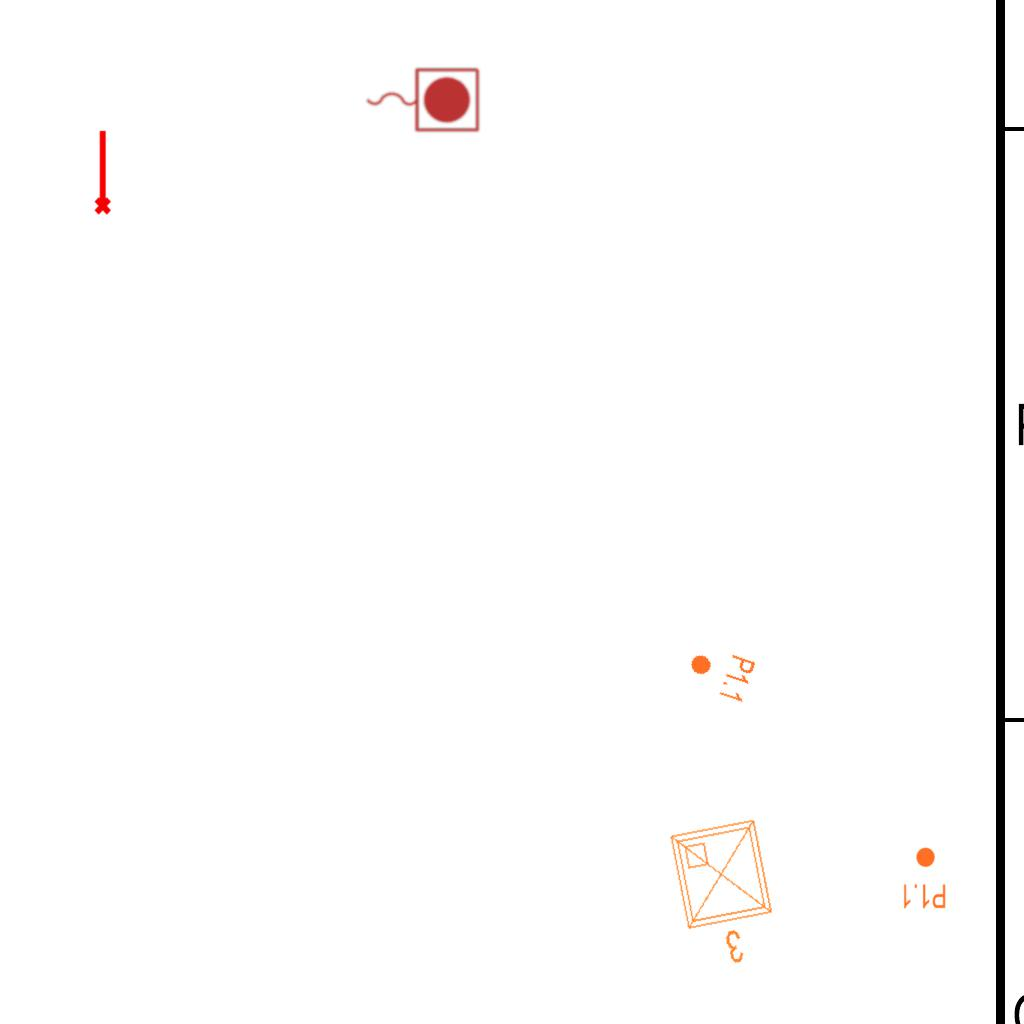ASR_Ansaugoeffnung: (90, 128, 113, 216)
Downlight_LED_Einbauleuchten_Flur: (682, 640, 758, 706), (901, 846, 947, 910)
Einbaudownlights_LED_Konferenzraeume: (661, 810, 793, 978)
Zugtaster: (361, 63, 483, 135)
